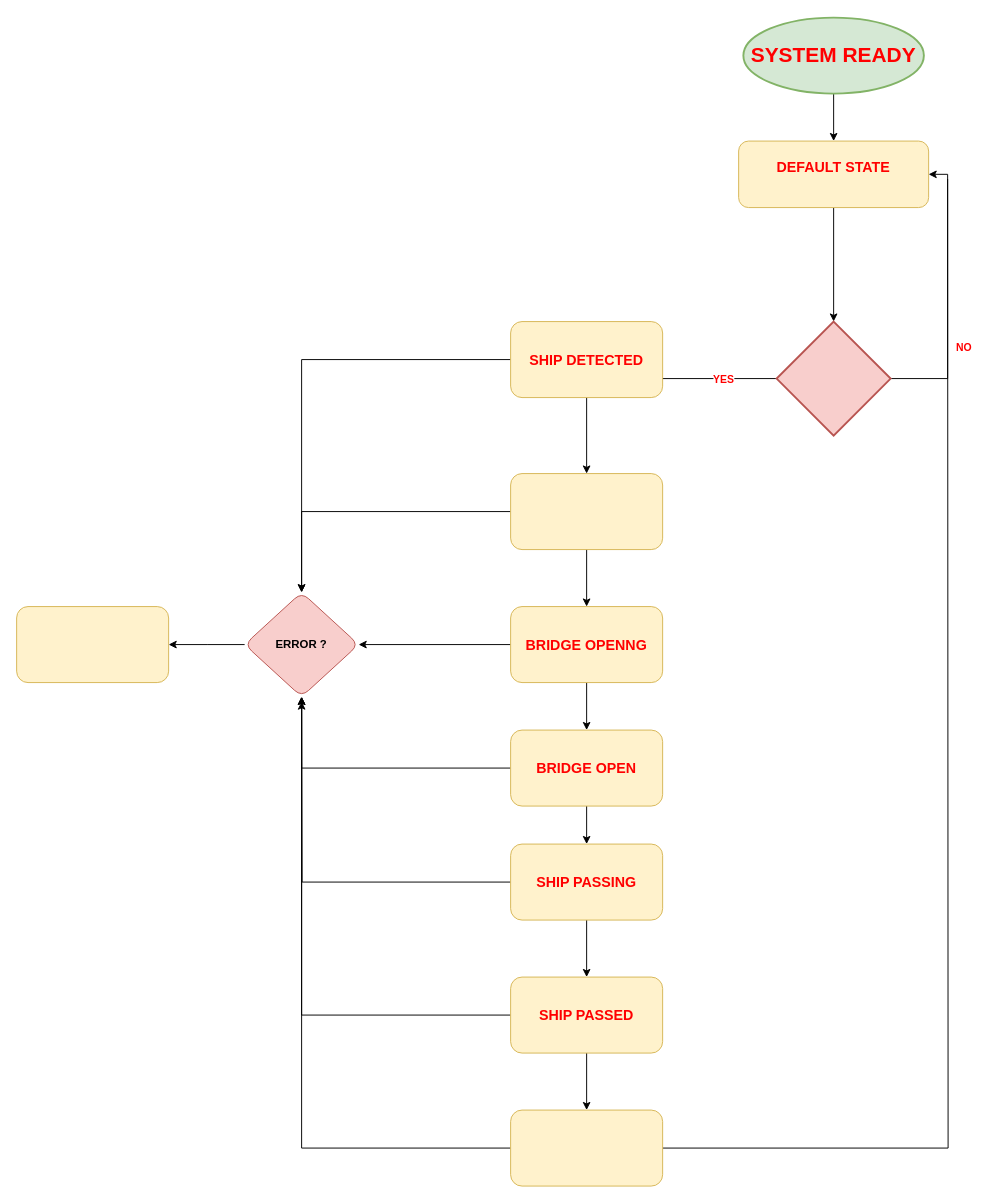
The diagram is 988 pixels wide and 1203 high, and some of its shapes have lost their labels. Here are the shapes that lost their labels. From the top down, the centre of each, then its label:
At point (833, 378): "Ship Detected ?".
At point (586, 511): "STOP TRAFFIC".
At point (92, 644): "ERROR STATE".
At point (586, 1147): "BRIDGE CLOSING".
